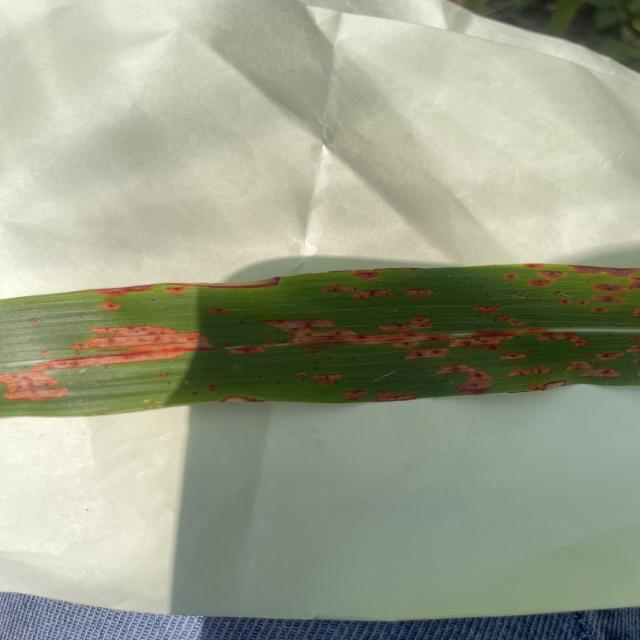millet_rust: (0, 264, 640, 418)
